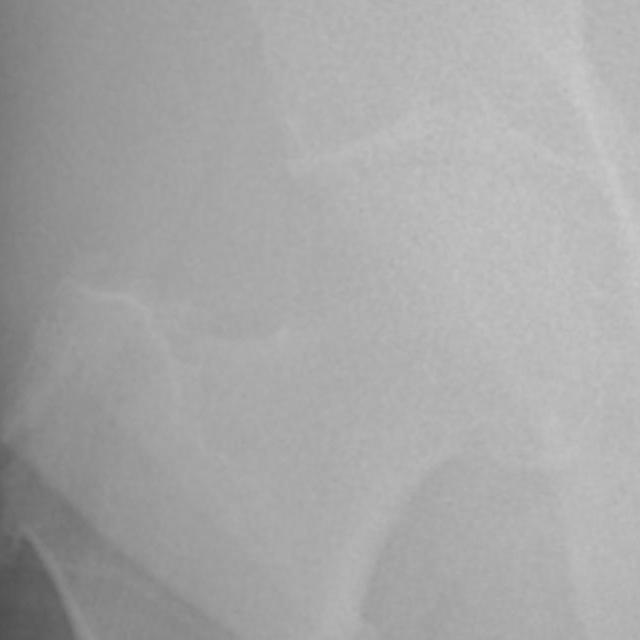Fitted_femural_head: (369, 167, 432, 369)
